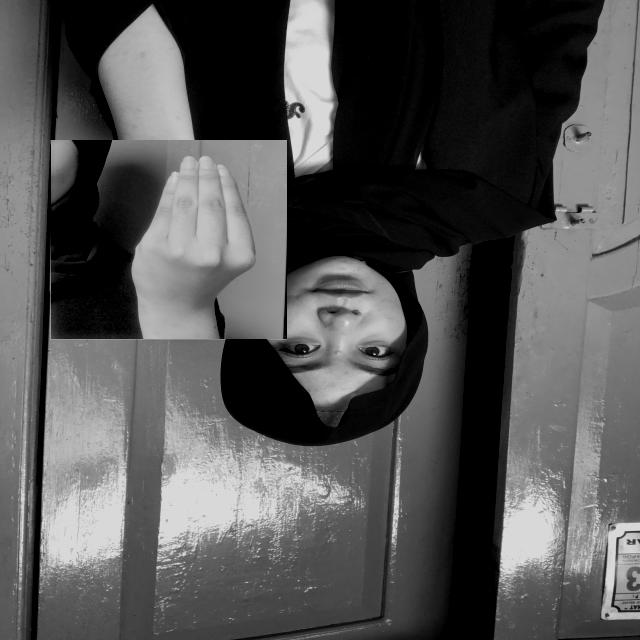kapan: (50, 140, 287, 340)
